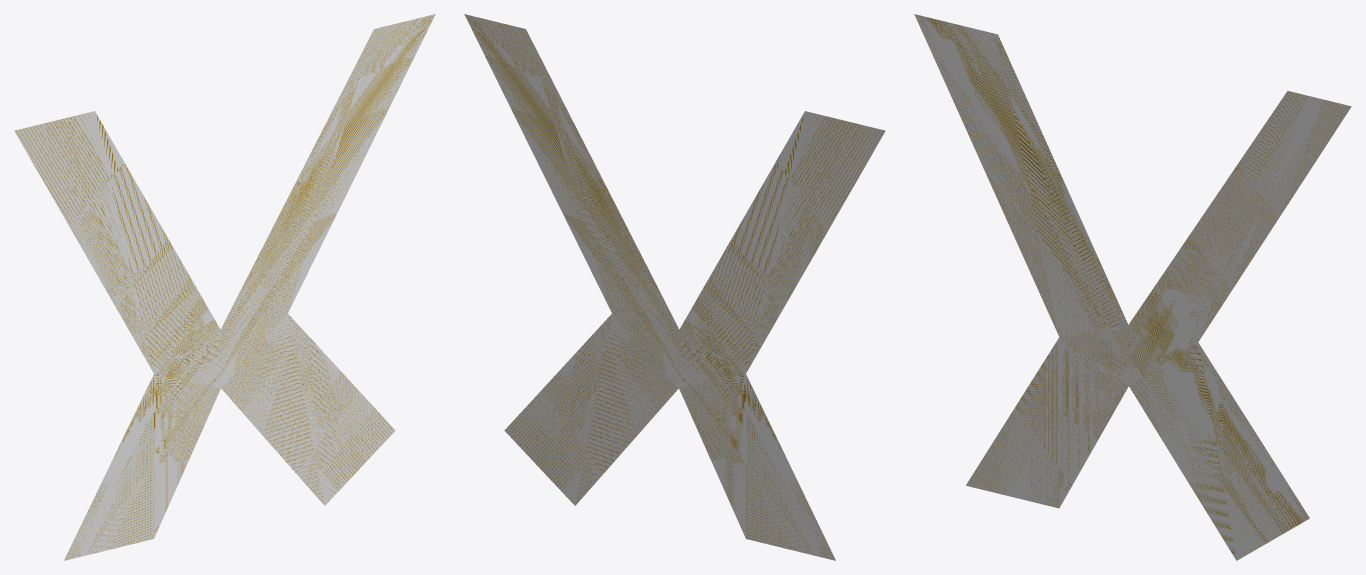
File: original-24.obj
3 views of the same model, side by side, from view 1: azimuth 30°, elevation 25°; view 2: azimuth 150°, elevation 25°; view 3: azimuth 330°, elevation 25° (orthographic). The views are drawn at different scales.
Visible parts, largest first — view 1: mesh1/mesh1-geometry/material_3/component_4#mesh1-geometry; view 2: mesh1/mesh1-geometry/material_3/component_4#mesh1-geometry; view 3: mesh1/mesh1-geometry/material_3/component_4#mesh1-geometry.
Part boxes in pixels (left/top/right/bottom): mesh1/mesh1-geometry/material_3/component_4#mesh1-geometry: left=14, top=14, right=435, bottom=560; mesh1/mesh1-geometry/material_3/component_4#mesh1-geometry: left=464, top=14, right=885, bottom=560; mesh1/mesh1-geometry/material_3/component_4#mesh1-geometry: left=914, top=14, right=1351, bottom=560.
Size of the model in its own units: 0.0842 by 0.0887 by 0.
